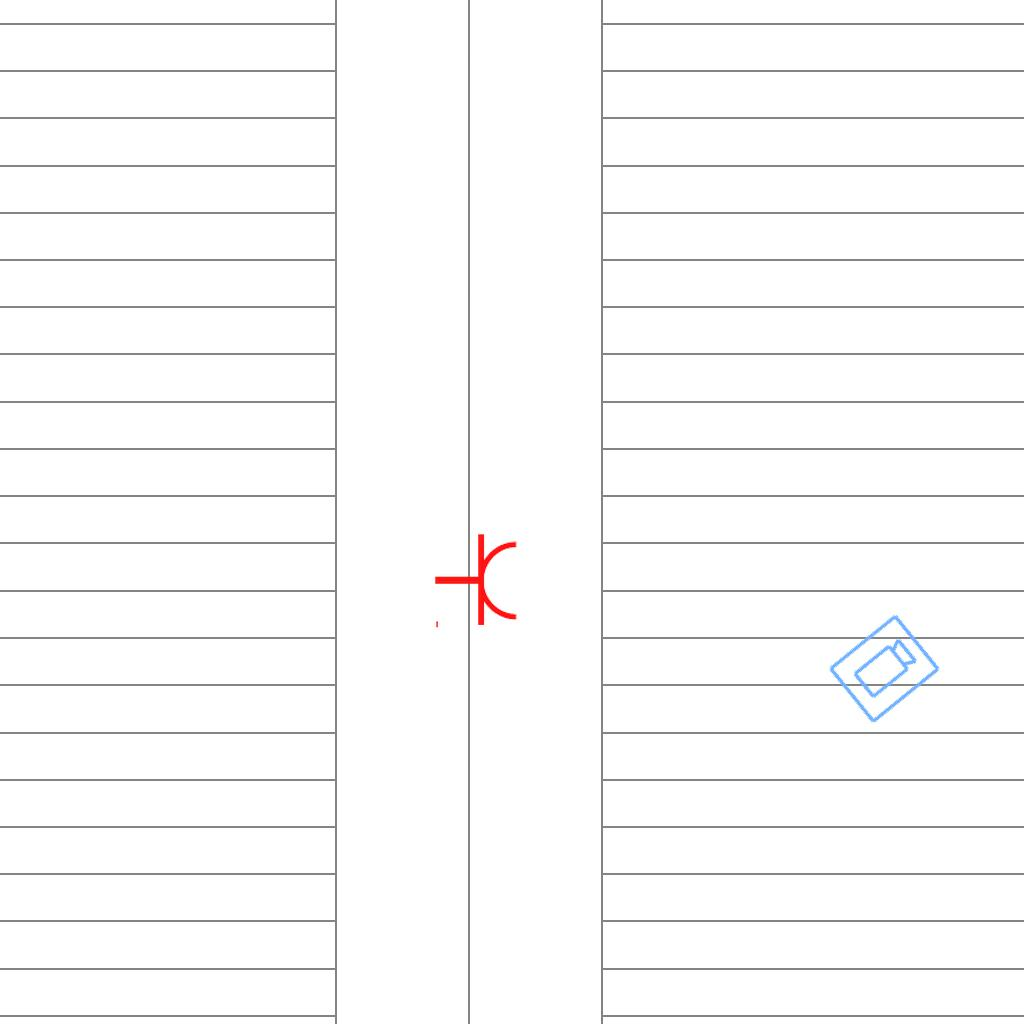KFO_Kamera_mit_Festobjektiv: (824, 610, 945, 729)
Schukosteckdose_einfach: (433, 532, 520, 632)
